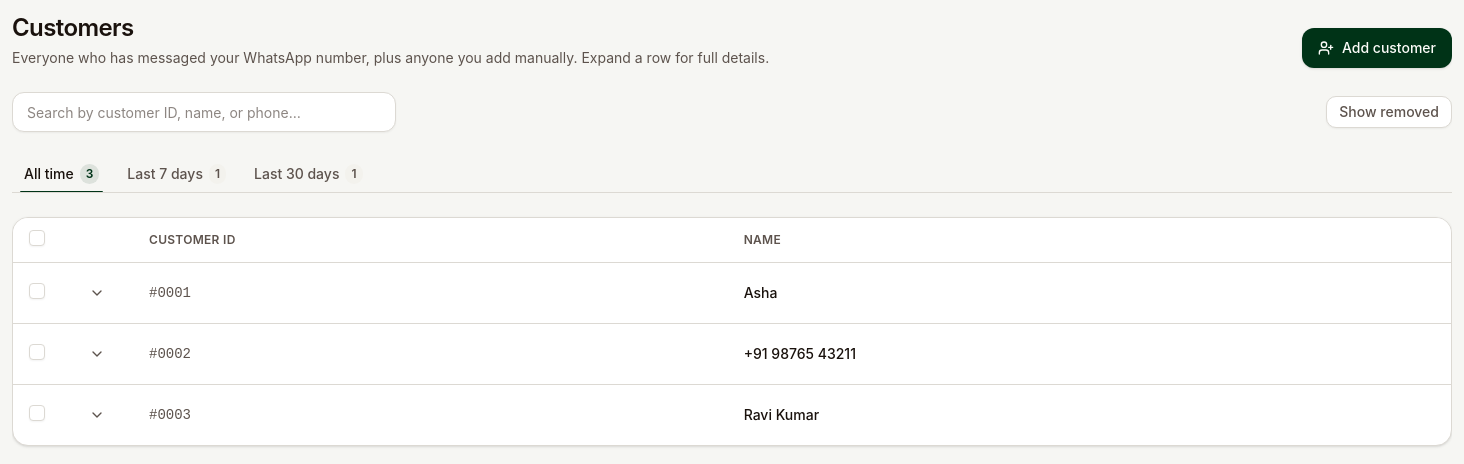
Scenario: CustomersPage › filters by phone digits via the search input, ignoring formatting
Expected: the text "Asha" is shown, [728,262,1451,323]
Type "+91 98765 432" into the search field named "Search customers" at [204, 112], box [12,92,396,132]
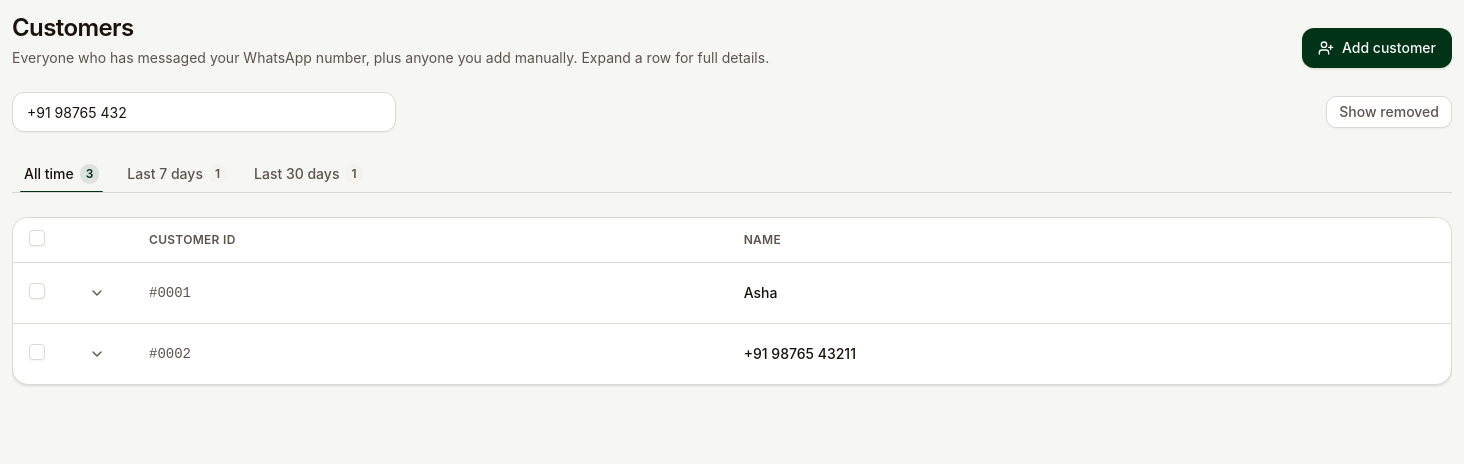
Expected: the text "Asha" is shown, [728,262,1451,323]
Result: the text "Ravi Kumar" is gone
